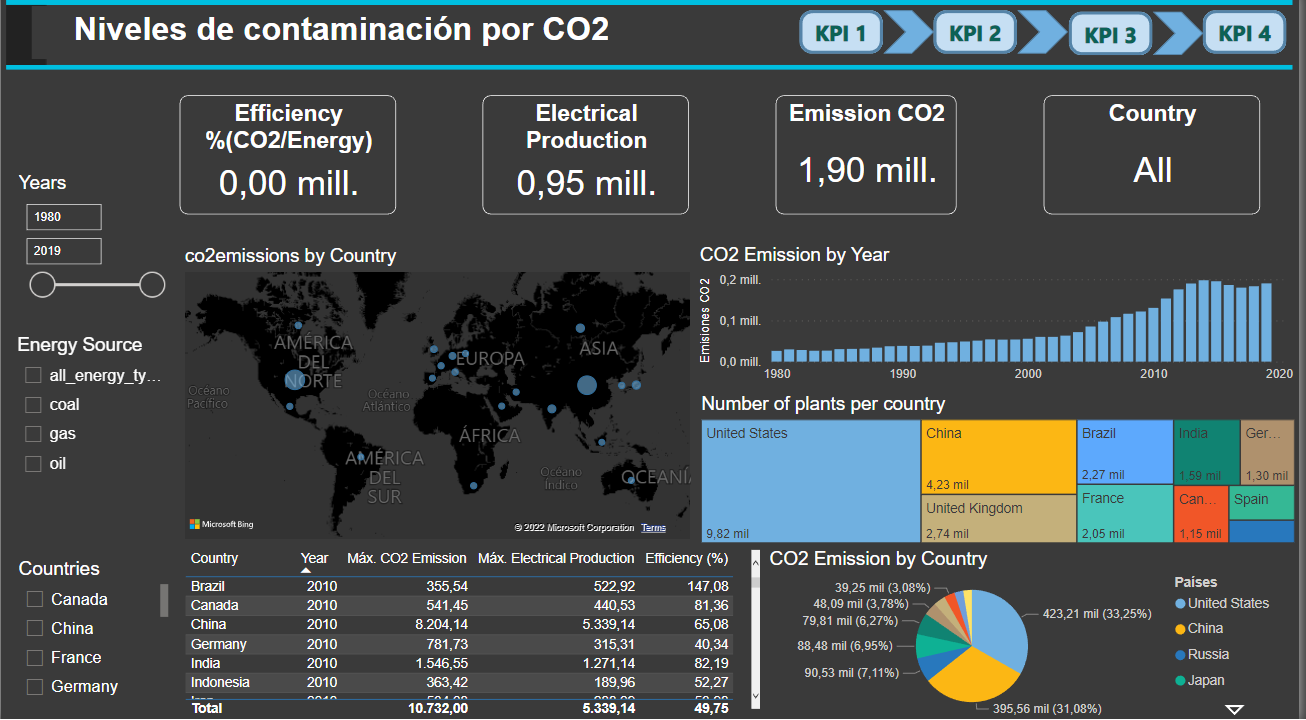

The dashboard page shown, as its layout file describes it:
{"tool":"powerbi","page":{"name":"OBJ1","canvas":[1280,720],"ordinal":0},"visuals":[{"type":"image","box":[0,2.9,1278.9,78.5],"z":0},{"type":"lineStackedColumnComboChart","title":"CO2 Emission by Year","fields":{"Category":["emission.year"],"Y":["Sum(emission.co2emissions)"]},"box":[684.7,248,595.3,144.9],"z":1000},{"type":"treemap","title":" Number of plants per country","fields":{"Group":["country.country"],"Values":["CountNonNull(plant.namePlant)"]},"box":[685,395,595,153.3],"z":2000},{"type":"pieChart","title":" CO2 Emission by Country","fields":{"Category":["country.country"],"Y":["Sum(emission.co2emissions)"]},"box":[753.7,547.9,526.3,172.5],"z":3000},{"type":"tableEx","fields":{"Values":["country.country","emission.year","Max(emission.co2emissions)","Max(source_country_electricity.productionElectricity)","source_country_electricity.efficiency(%)"]},"box":[176,544.7,577.8,176],"z":4000},{"type":"map","title":"co2emissions by Country","fields":{"Size":["Sum(emission.co2emissions)"],"Category":["country.country"]},"box":[176.4,248.6,509,295.6],"z":5000},{"type":"card","title":"Country","fields":{"Values":["country.nombrePais"]},"box":[1028,102.5,213.3,117.6],"z":6000},{"type":"card","title":"Emission CO2","fields":{"Values":["Sum(emission.co2emissions)"]},"box":[764.3,102.5,178.1,117.6],"z":7000},{"type":"card","title":"Electrical Production","fields":{"Values":["Sum(source_country_electricity.productionElectricity)"]},"box":[475.4,102.5,203.3,117.6],"z":8000},{"type":"card","title":"Efficiency %(CO2/Energy)","fields":{"Values":["source_country_electricity.efficiency(%)"]},"box":[176.4,102.5,213.3,117.6],"z":9000},{"type":"slicer","title":"Years","fields":{"Values":["emission.year"]},"box":[11.8,177.4,157.8,141.1],"z":10000},{"type":"slicer","title":"Energy Source","fields":{"Values":["source_energy.source"]},"box":[11.7,337.5,157.6,154.7],"z":11000},{"type":"slicer","title":"Countries","fields":{"Values":["country.country"]},"box":[11.8,557.7,157.9,149.5],"z":12000},{"type":"textbox","box":[30.3,13.8,611.2,52.3],"z":13000},{"type":"shape","title":"1","box":[787.1,18.5,82.5,43.3],"z":14000},{"type":"shape","box":[869.6,18.5,50.3,43.3],"z":15000},{"type":"shape","box":[1002.4,18.5,50.3,43.3],"z":16000},{"type":"shape","box":[1135.2,19.9,50.3,43.3],"z":17000},{"type":"shape","title":"1","box":[919.9,18.5,82.5,43.3],"z":18000},{"type":"shape","title":"1","box":[1052.7,19.2,82.5,43.3],"z":19000},{"type":"shape","title":"1","box":[1185.5,18.5,82.5,43.3],"z":20000},{"type":"actionButton","box":[787.1,19.2,82.5,44.7],"z":21000},{"type":"actionButton","box":[919.9,17.8,82.5,44.7],"z":22000},{"type":"actionButton","box":[1052.7,17.8,82.5,44.7],"z":23000},{"type":"actionButton","box":[1185.6,17.8,82.5,44.7],"z":24000}]}

Visuals, with their boxes in screenshot pixels (x1, y1, x2, y2), scaled from the page's 1280x720 canvas onto the 1306x720 screenshot:
image: x1=0 y1=3 x2=1305 y2=81
"CO2 Emission by Year" lineStackedColumnComboChart: x1=699 y1=248 x2=1305 y2=393
" Number of plants per country" treemap: x1=699 y1=395 x2=1305 y2=548
" CO2 Emission by Country" pieChart: x1=769 y1=548 x2=1305 y2=719
tableEx - country.country x emission.year: x1=180 y1=545 x2=769 y2=719
"co2emissions by Country" map: x1=180 y1=249 x2=699 y2=544
"Country" card: x1=1049 y1=102 x2=1267 y2=220
"Emission CO2" card: x1=780 y1=102 x2=962 y2=220
"Electrical Production" card: x1=485 y1=102 x2=692 y2=220
"Efficiency %(CO2/Energy)" card: x1=180 y1=102 x2=398 y2=220
"Years" slicer: x1=12 y1=177 x2=173 y2=318
"Energy Source" slicer: x1=12 y1=338 x2=173 y2=492
"Countries" slicer: x1=12 y1=558 x2=173 y2=707
textbox: x1=31 y1=14 x2=655 y2=66
"1" shape: x1=803 y1=18 x2=887 y2=62
shape: x1=887 y1=18 x2=939 y2=62
shape: x1=1023 y1=18 x2=1074 y2=62
shape: x1=1158 y1=20 x2=1210 y2=63
"1" shape: x1=939 y1=18 x2=1023 y2=62
"1" shape: x1=1074 y1=19 x2=1158 y2=62
"1" shape: x1=1210 y1=18 x2=1294 y2=62
actionButton: x1=803 y1=19 x2=887 y2=64
actionButton: x1=939 y1=18 x2=1023 y2=62
actionButton: x1=1074 y1=18 x2=1158 y2=62
actionButton: x1=1210 y1=18 x2=1294 y2=62
